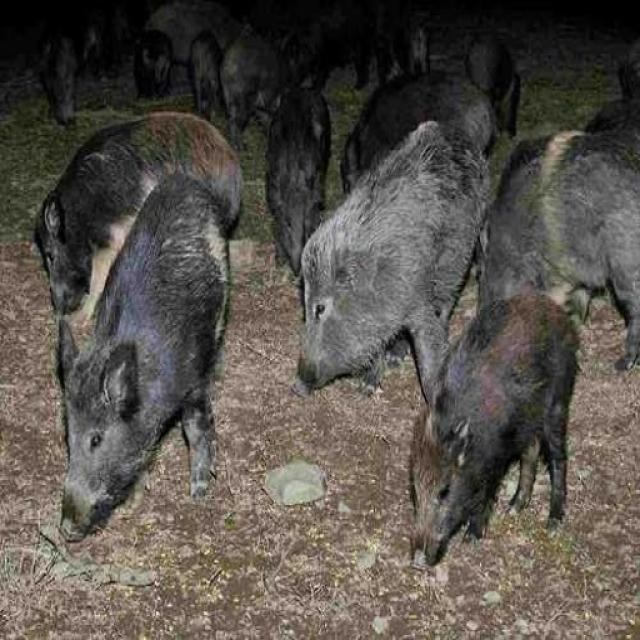pig: (42, 200, 257, 557), (396, 285, 605, 573), (280, 111, 486, 401)
